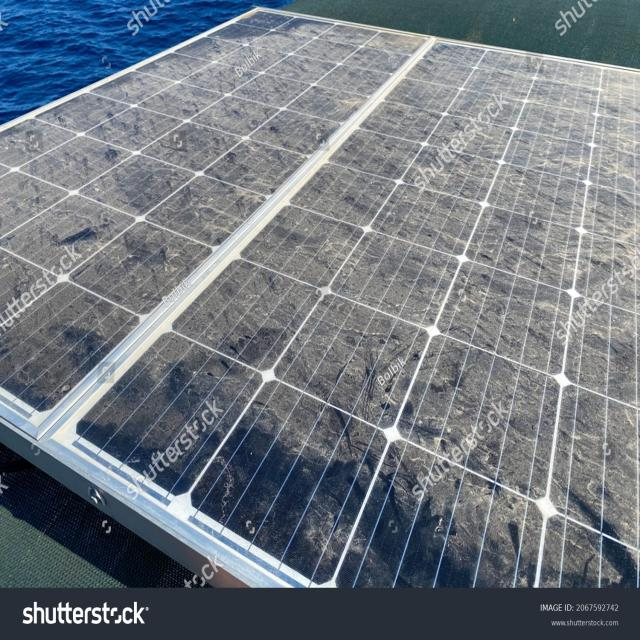dust-solar-panel: (0, 8, 640, 590)
